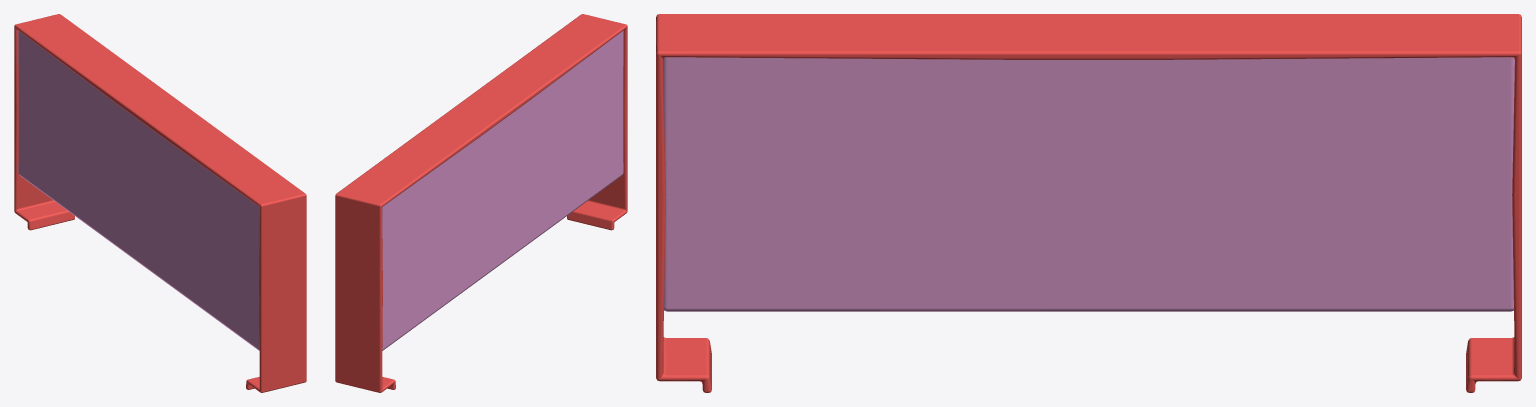
Rendered from wall01.fbx.
3 views of the same model, side by side, from view 1: azimuth 30°, elevation 25°; view 2: azimuth 150°, elevation 25°; view 3: azimuth 270°, elevation 25° (orthographic). The views are drawn at different scales.
Visible parts, largest first — view 1: png1, wallOutside.002; view 2: png1, wallOutside.002; view 3: png1, wallOutside.002.
Part boxes in pixels (x1,y1,x2,y2): png1: (18,30,259,350); wallOutside.002: (14,14,306,392); png1: (382,30,623,350); wallOutside.002: (335,14,627,392); png1: (663,57,1514,311); wallOutside.002: (656,14,1521,392).
Size of the model in its own units: 218 by 878 by 2014.
